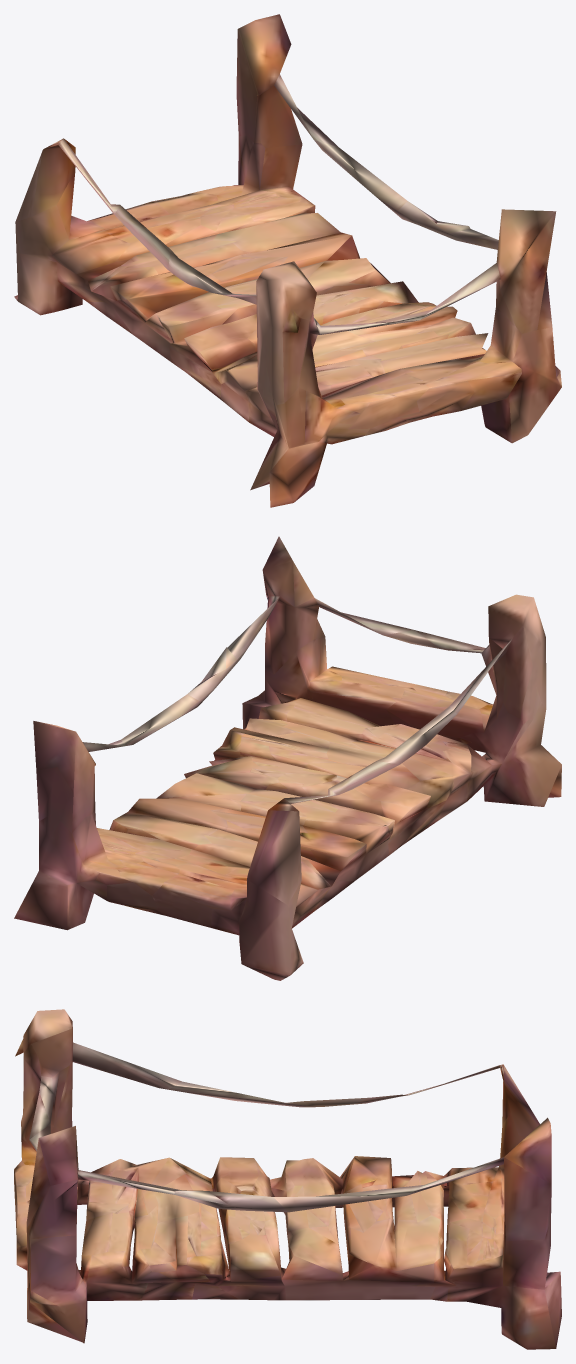
File: bridge.glb
3 renders of one model, top to bottom at view 1: azimuth 30°, elevation 25°; view 2: azimuth 150°, elevation 25°; view 3: azimuth 270°, elevation 25°, orthographic. The views are drawn at different scales.
Parts seen in each view (by area): view 1: tripo_node_38437949-fad4-4f8b-8166-dda71dab25c3; view 2: tripo_node_38437949-fad4-4f8b-8166-dda71dab25c3; view 3: tripo_node_38437949-fad4-4f8b-8166-dda71dab25c3.
Part boxes in pixels (bbox=[...]): tripo_node_38437949-fad4-4f8b-8166-dda71dab25c3: bbox=[14, 14, 561, 507]; tripo_node_38437949-fad4-4f8b-8166-dda71dab25c3: bbox=[14, 536, 561, 980]; tripo_node_38437949-fad4-4f8b-8166-dda71dab25c3: bbox=[14, 1009, 561, 1349].
Bounding box in the file's own units: 0.5987 × 0.4033 × 0.9652.
1 material, 1 textured.
